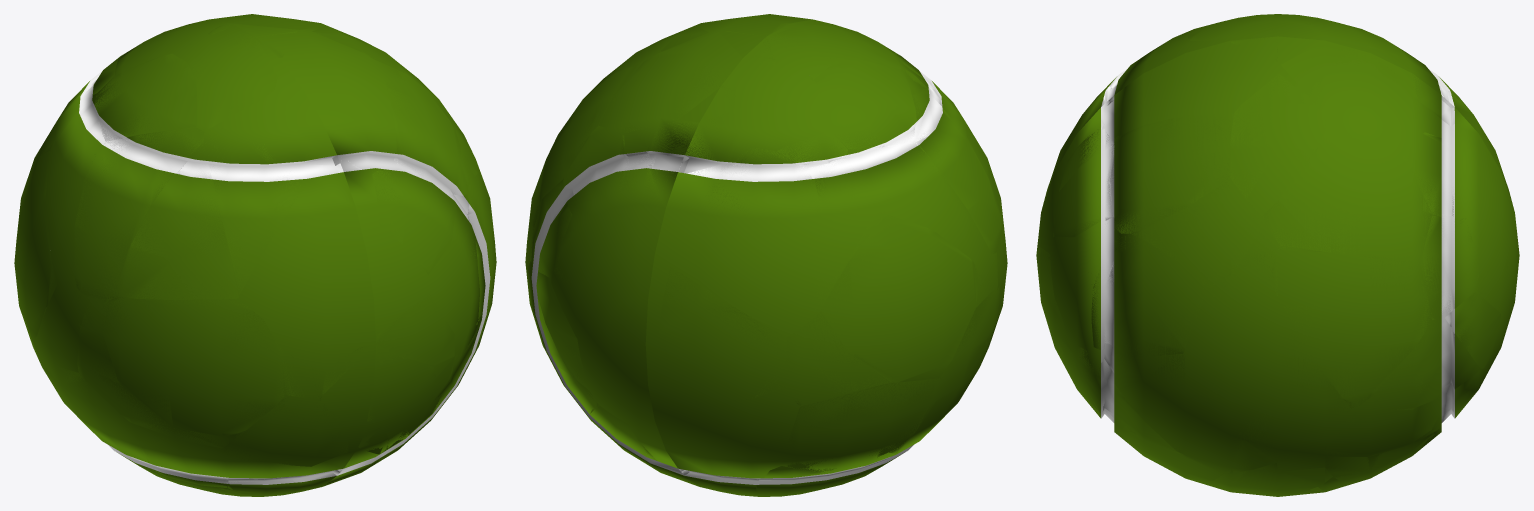
The model's file is tenistopukırılan.fbx.
3 renders of one model, left to right at view 1: azimuth 30°, elevation 25°; view 2: azimuth 150°, elevation 25°; view 3: azimuth 270°, elevation 25°, orthographic.
Visible parts, largest first — view 1: Sphere.001, Sphere.001_cell.012, Sphere.001_cell.087, Sphere.001_cell.091, Sphere.001_cell.090, Sphere.001_cell.063, Sphere.001_cell.054, Sphere.001_cell.036, Sphere.001_cell.053, Sphere.001_cell.003, Sphere.001_cell.044, Sphere.001_cell.005 (+11 smaller); view 2: Sphere.001, Sphere.001_cell.036, Sphere.001_cell.089, Sphere.001_cell.090, Sphere.001_cell.087, Sphere.001_cell.014, Sphere.001_cell.028, Sphere.001_cell.027, Sphere.001_cell.092, Sphere.001_cell.063, Sphere.001_cell.078, Sphere.001_cell.019 (+14 smaller); view 3: Sphere.001, Sphere.001_cell.038, Sphere.001_cell.039, Sphere.001_cell.054, Sphere.001_cell.058, Sphere.001_cell.018, Sphere.001_cell.014, Sphere.001_cell.026, Sphere.001_cell.005, Sphere.001_cell.069, Sphere.001_cell.021, Sphere.001_cell.074 (+11 smaller).
Boxes of the visible parts, x1=… form: Sphere.001: x1=28, y1=19, x2=495, y2=496; Sphere.001_cell.012: x1=103, y1=298, x2=284, y2=435; Sphere.001_cell.087: x1=74, y1=127, x2=204, y2=299; Sphere.001_cell.091: x1=116, y1=145, x2=238, y2=299; Sphere.001_cell.090: x1=94, y1=53, x2=196, y2=141; Sphere.001_cell.063: x1=186, y1=31, x2=296, y2=130; Sphere.001_cell.054: x1=385, y1=70, x2=468, y2=195; Sphere.001_cell.036: x1=14, y1=152, x2=57, y2=341; Sphere.001_cell.053: x1=77, y1=299, x2=242, y2=448; Sphere.001_cell.003: x1=205, y1=126, x2=301, y2=294; Sphere.001_cell.044: x1=322, y1=294, x2=454, y2=394; Sphere.001_cell.005: x1=372, y1=163, x2=456, y2=274; Sphere.001: x1=525, y1=14, x2=1007, y2=496; Sphere.001_cell.036: x1=820, y1=215, x2=978, y2=382; Sphere.001_cell.089: x1=787, y1=378, x2=938, y2=468; Sphere.001_cell.090: x1=814, y1=60, x2=916, y2=149; Sphere.001_cell.087: x1=903, y1=69, x2=1001, y2=253; Sphere.001_cell.014: x1=610, y1=32, x2=742, y2=133; Sphere.001_cell.028: x1=809, y1=157, x2=885, y2=294; Sphere.001_cell.027: x1=658, y1=267, x2=785, y2=399; Sphere.001_cell.092: x1=647, y1=111, x2=741, y2=192; Sphere.001_cell.063: x1=726, y1=23, x2=902, y2=68; Sphere.001_cell.078: x1=783, y1=314, x2=887, y2=405; Sphere.001_cell.019: x1=673, y1=148, x2=823, y2=319; Sphere.001: x1=1037, y1=16, x2=1519, y2=496; Sphere.001_cell.038: x1=1263, y1=124, x2=1431, y2=262; Sphere.001_cell.039: x1=1269, y1=246, x2=1429, y2=408; Sphere.001_cell.054: x1=1110, y1=113, x2=1232, y2=233; Sphere.001_cell.058: x1=1091, y1=236, x2=1205, y2=357; Sphere.001_cell.018: x1=1229, y1=74, x2=1326, y2=198; Sphere.001_cell.014: x1=1281, y1=40, x2=1419, y2=141; Sphere.001_cell.026: x1=1184, y1=276, x2=1347, y2=462; Sphere.001_cell.005: x1=1053, y1=129, x2=1113, y2=237; Sphere.001_cell.069: x1=1132, y1=180, x2=1263, y2=287; Sphere.001_cell.021: x1=1325, y1=367, x2=1486, y2=456; Sphere.001_cell.074: x1=1072, y1=347, x2=1176, y2=451.
Size of the model in its own units: 40 by 40 by 40.
